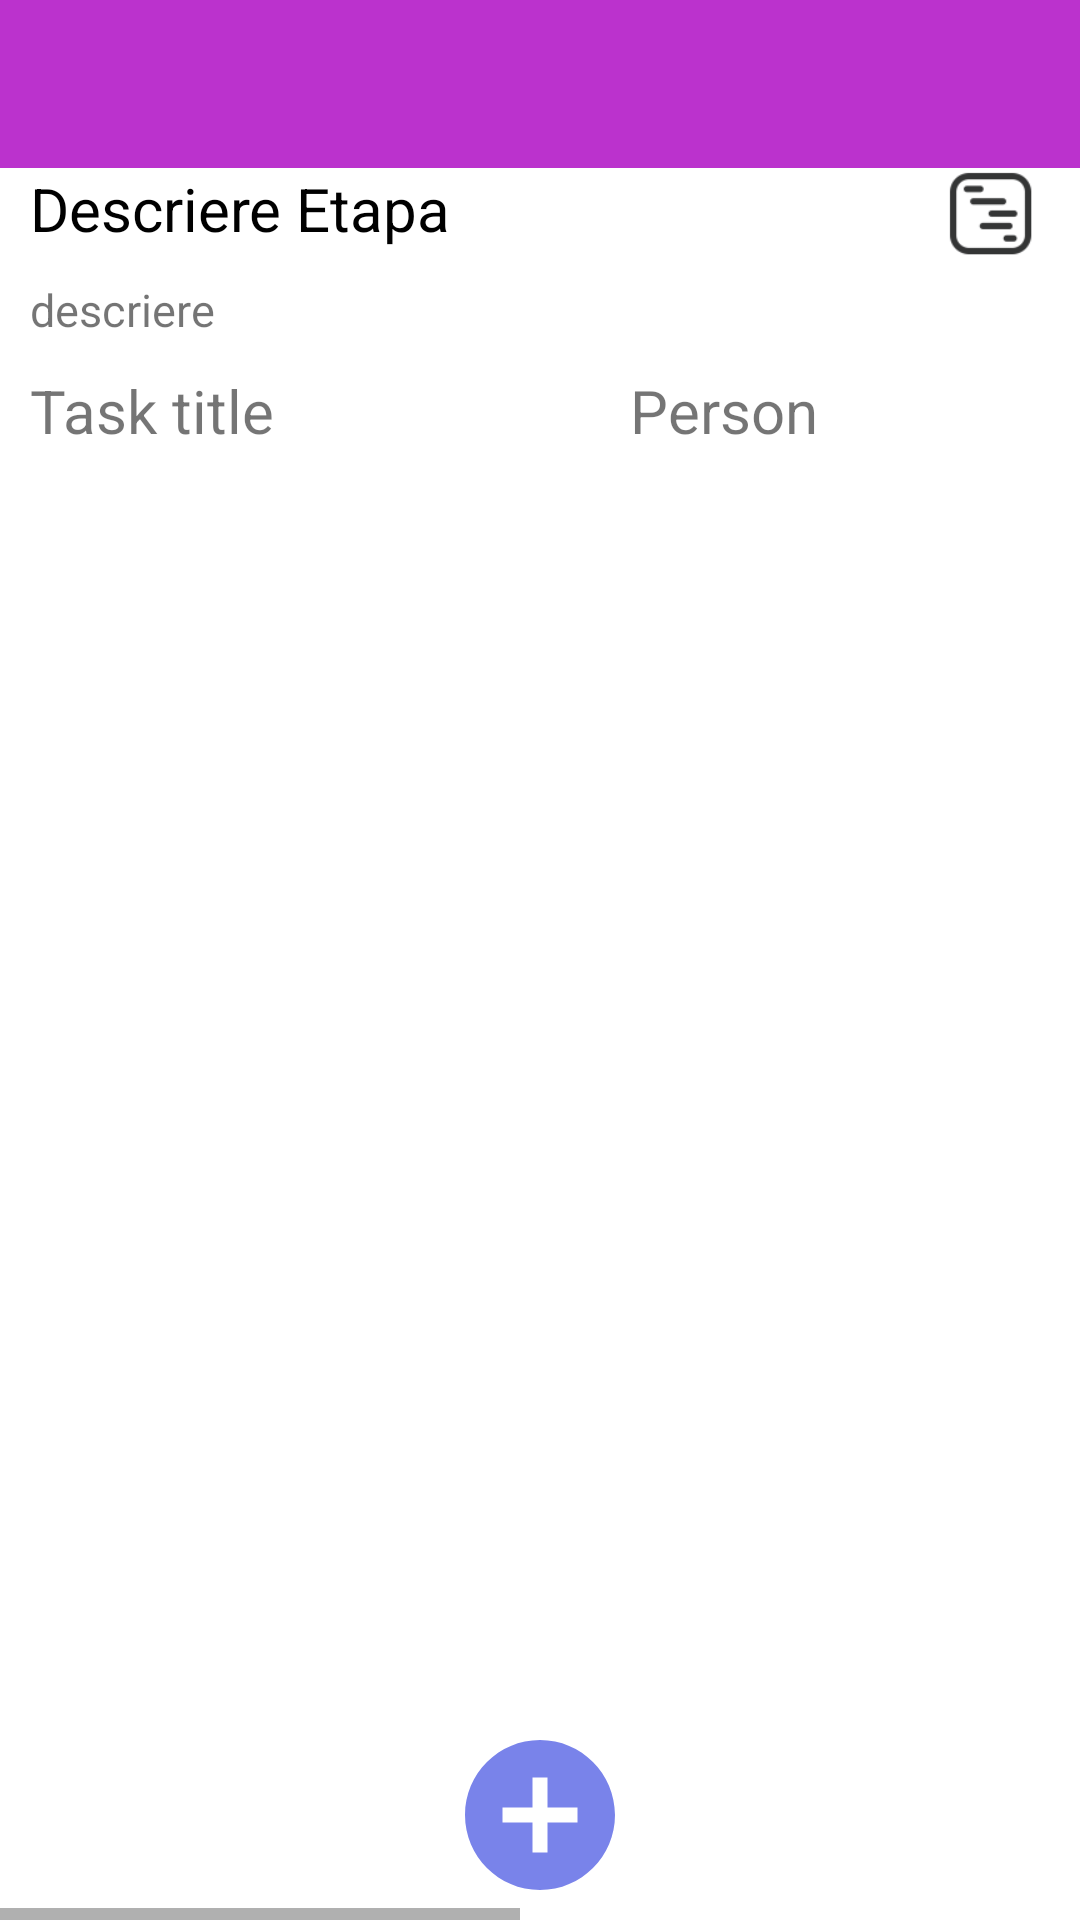

Named icons in this screenshot (1080px x 1920px) and their bounding boxes, (x1,y1,x2,y2):
addbtn: (465,1740,615,1890)
gantt: (950,173,1032,255)
